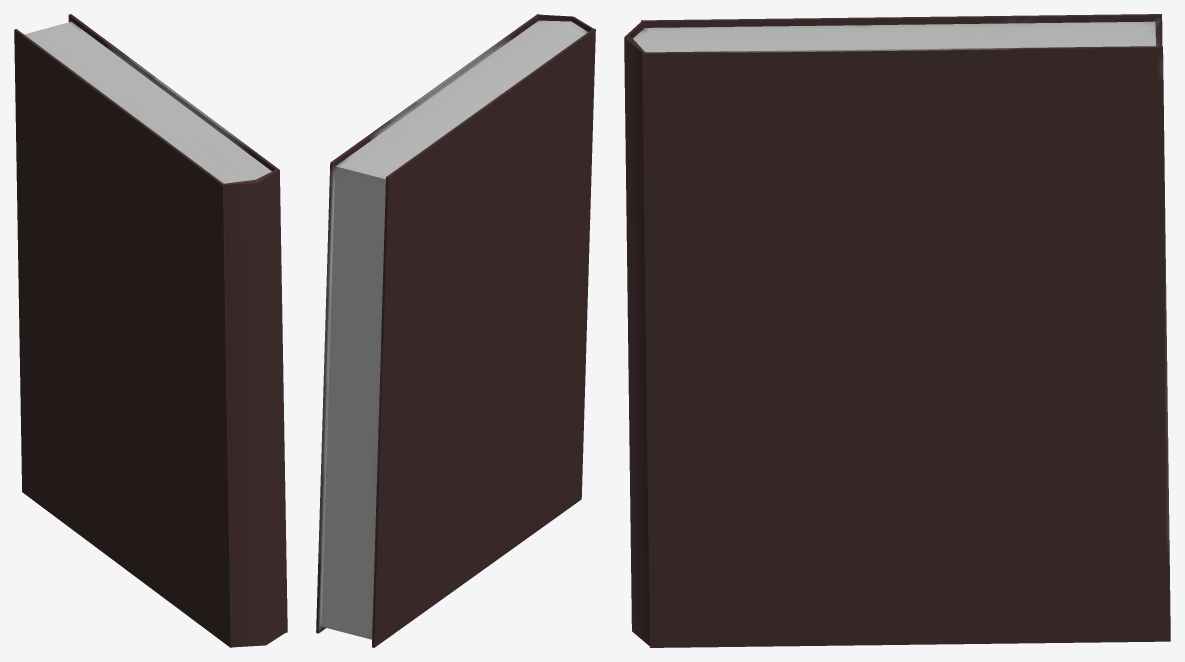
The model's file is BookDirtRed.fbx.
The picture shows the model from 3 angles, left to right: view 1: azimuth 30°, elevation 25°; view 2: azimuth 150°, elevation 25°; view 3: azimuth 270°, elevation 25°; orthographic projection. The views are drawn at different scales.
Visible parts, largest first — view 1: BookDirtRedOBJ; view 2: BookDirtRedOBJ; view 3: BookDirtRedOBJ.
Part boxes in pixels (bbox=[...]): BookDirtRedOBJ: bbox=[14, 14, 287, 647]; BookDirtRedOBJ: bbox=[316, 14, 595, 647]; BookDirtRedOBJ: bbox=[624, 14, 1170, 647].
Bounding box in the file's own units: 5.75 × 37.34 × 31.12.
1 material, 1 textured.
